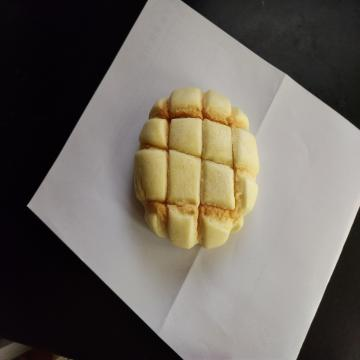melon_bread: (130, 88, 260, 252)
